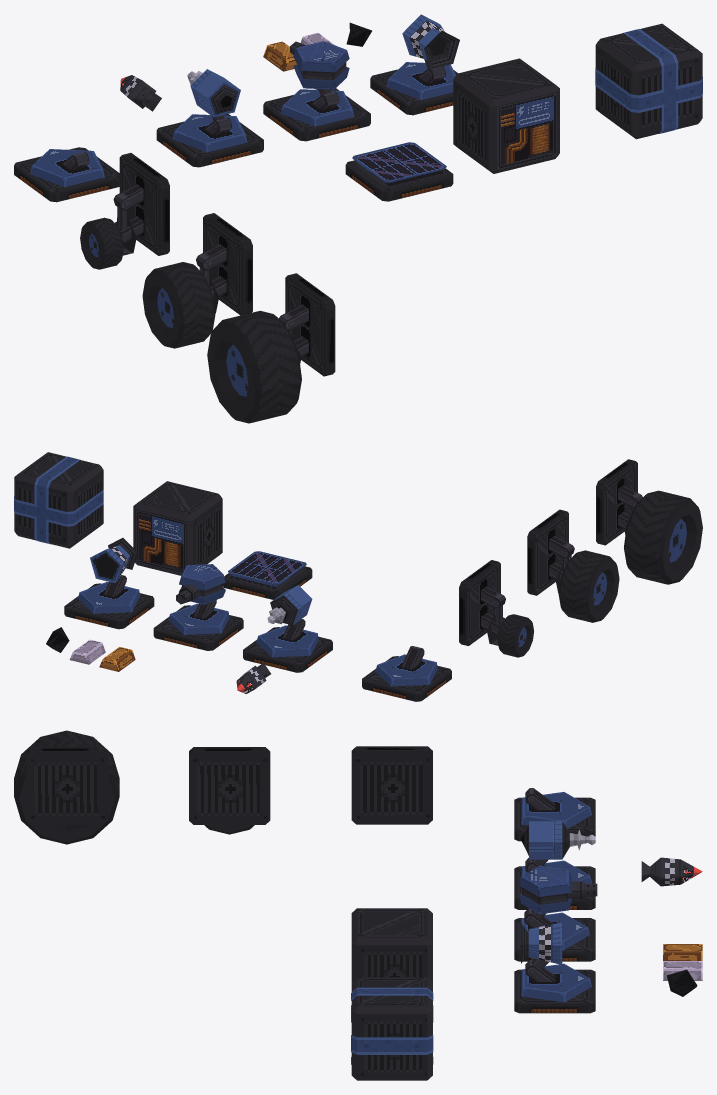
File: Assets.glb
The picture shows the model from 3 angles, top to bottom: view 1: azimuth 30°, elevation 25°; view 2: azimuth 150°, elevation 25°; view 3: azimuth 270°, elevation 25°; orthographic projection. The views are drawn at different scales.
Parts seen in each view (by area): view 1: block_battery, Wheel_big, block_construct, Wheel_med, sunpanel, Cross, Wheel_module_big, Wheel_module_small, Wheel_module_medium, turret_head.001, base_neck, lazer_neck.002 (+11 smaller); view 2: block_battery, Wheel_big, block_construct, Wheel_med, sunpanel, Cross, Wheel_module_medium, Wheel_module_big, Wheel_module_small, base_neck, turret_head.001, lazer_neck.002 (+12 smaller); view 3: block_construct, Wheel_module_small, Wheel_module_medium, Wheel_module_big, block_battery, Wheel_big, turret_head.001, Cross, rocketgun_head, lazer_head, base_neck, rocketgun (+10 smaller).
Boxes of the visible parts, box(x1,y1,x2,y2) form: block_battery: box(453, 58, 559, 173); Wheel_big: box(207, 310, 301, 423); block_construct: box(595, 23, 702, 139); Wheel_med: box(142, 262, 215, 348); sunpanel: box(345, 142, 453, 201); Cross: box(595, 29, 702, 133); Wheel_module_big: box(285, 273, 335, 376); Wheel_module_small: box(119, 153, 169, 255); Wheel_module_medium: box(203, 213, 252, 315); turret_head.001: box(290, 41, 349, 95); base_neck: box(30, 149, 104, 187); lazer_neck.002: box(173, 114, 247, 152); block_battery: box(133, 481, 222, 575); Wheel_big: box(624, 490, 702, 584); block_construct: box(14, 452, 103, 548); Wheel_med: box(558, 550, 619, 622); sunpanel: box(222, 551, 312, 599); Cross: box(14, 456, 103, 544); Wheel_module_medium: box(527, 509, 568, 595); Wheel_module_big: box(596, 459, 637, 545); Wheel_module_small: box(459, 560, 500, 645); base_neck: box(375, 646, 437, 686); turret_head.001: box(176, 564, 225, 605); lazer_neck.002: box(256, 619, 318, 657); block_construct: box(351, 977, 432, 1080); Wheel_module_small: box(351, 746, 432, 824); Wheel_module_medium: box(189, 747, 270, 824); Wheel_module_big: box(26, 747, 107, 824); block_battery: box(351, 908, 432, 981); Wheel_big: box(14, 730, 119, 844); turret_head.001: box(518, 865, 597, 918); Cross: box(351, 987, 433, 1064); rocketgun_head: box(521, 959, 591, 1002); lazer_head: box(521, 821, 595, 865); base_neck: box(521, 788, 591, 828); rocketgun: box(514, 969, 595, 1013).
Bounding box in the file's own units: 8.67 × 1.55 × 8.47.
Materials: 3 (3 with a texture image).
